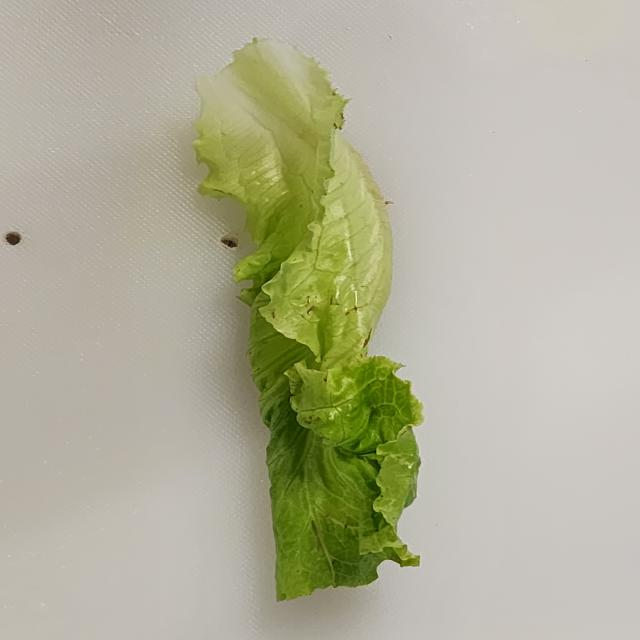lettuce: (190, 36, 424, 602)
